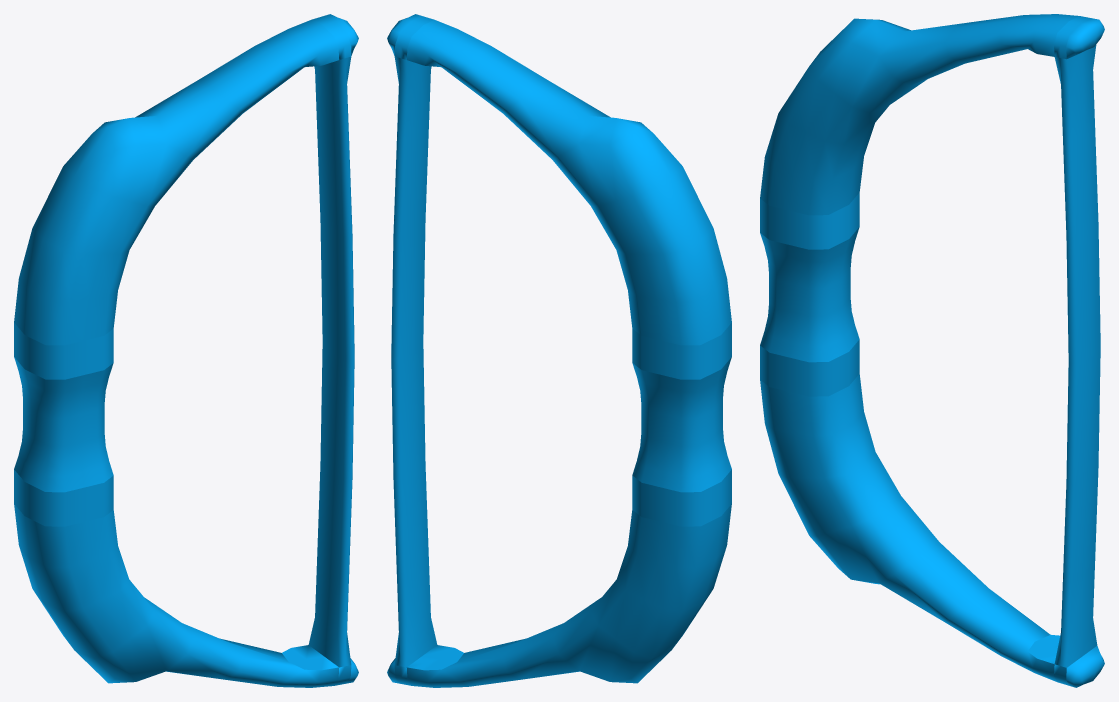
Rendered from bow_low.fbx.
3 views of the same model, side by side, from view 1: azimuth 30°, elevation 25°; view 2: azimuth 150°, elevation 25°; view 3: azimuth 330°, elevation 25° (orthographic).
Parts seen in each view (by area): view 1: Bow_low; view 2: Bow_low; view 3: Bow_low.
Part boxes in pixels (x1,y1,x2,y2): Bow_low: [14, 14, 358, 687]; Bow_low: [387, 14, 731, 687]; Bow_low: [760, 14, 1104, 687].
Bounding box in the file's own units: 34.2 × 66.21 × 7.58.
